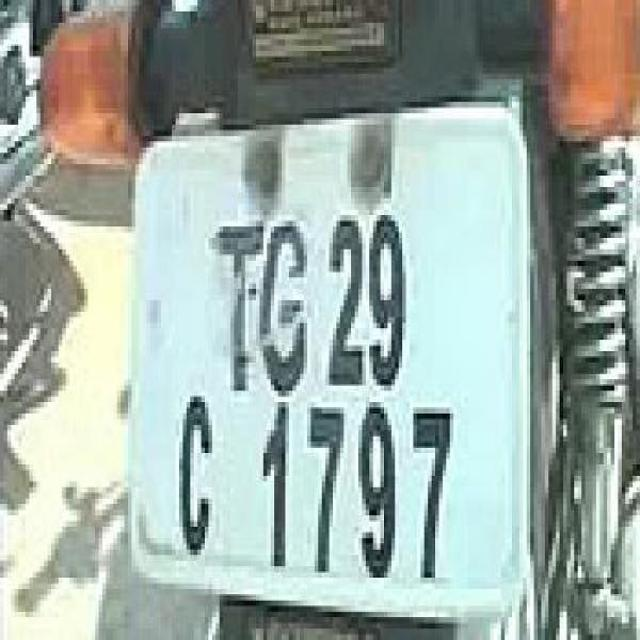number plate: (126, 85, 531, 612)
